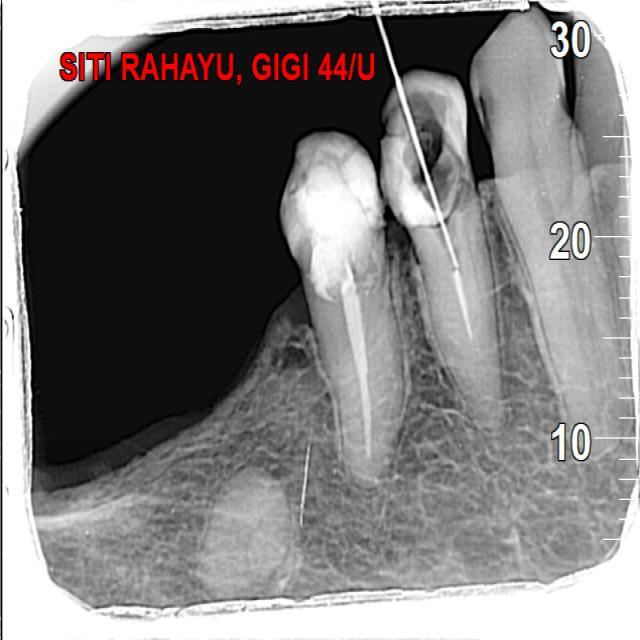individual-tooth-8tto: (465, 6, 621, 438), (284, 128, 406, 470), (377, 76, 494, 421)
